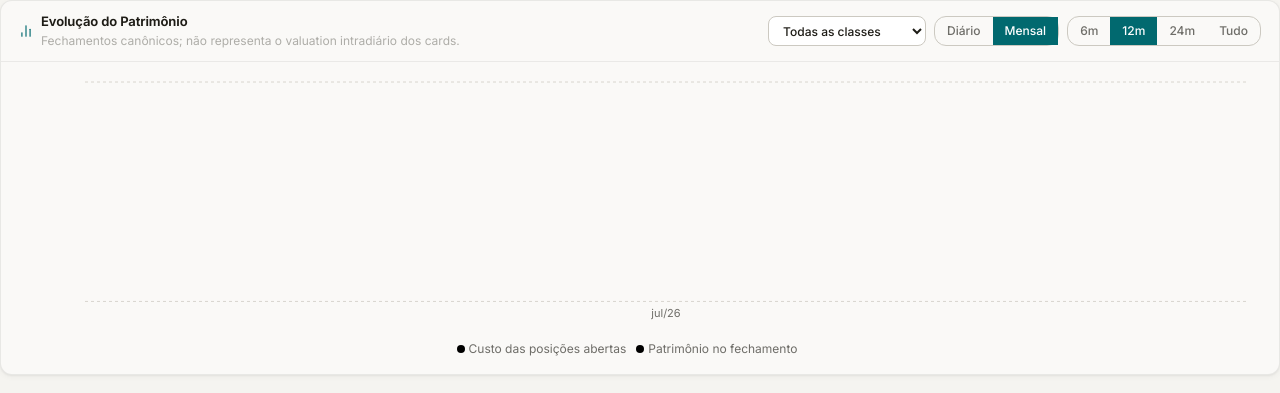
Scenario: PortfolioEvolutionSection › explica classe sem motor histórico sem disparar consulta de série
Select "Tesouro Direto" in the dropdown named "Classe do histórico" at (847, 31), box [768,16,926,46]
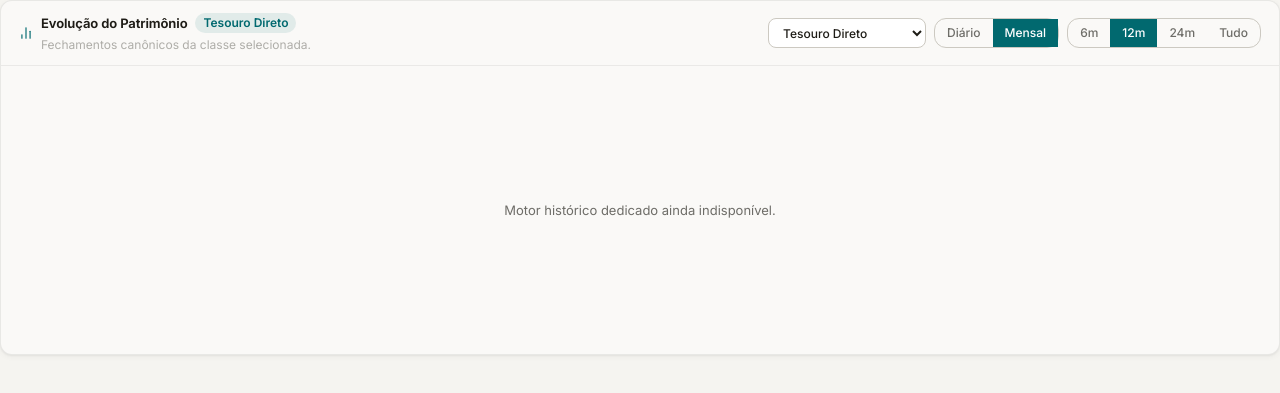
Check: the text "Motor histórico dedicado ainda indisponível." is shown, box [504,202,776,218]
